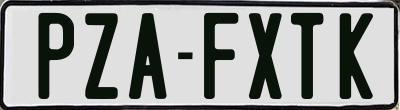A: (129, 10, 172, 100)
F: (204, 13, 243, 103)
K: (338, 11, 375, 103)
P: (38, 10, 78, 96)
T: (288, 13, 325, 101)
X: (248, 12, 282, 104)
Z: (83, 12, 121, 102)
